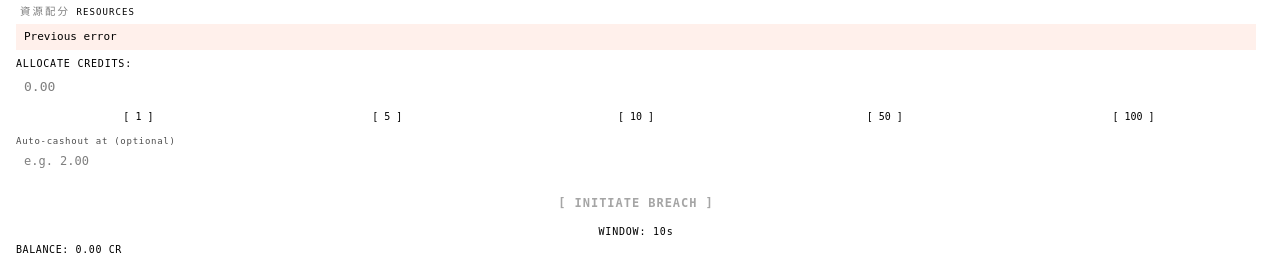
Test: BetForm component › error message handling › error message is cleared on next join attempt
The image size is (1273, 270).
Expected: the text "Previous error" is shown, [16, 24, 1256, 50]
# Enter a valid wager and join
Type "100" into the number field named "Wager" at (636, 87), box [16, 73, 1256, 101]
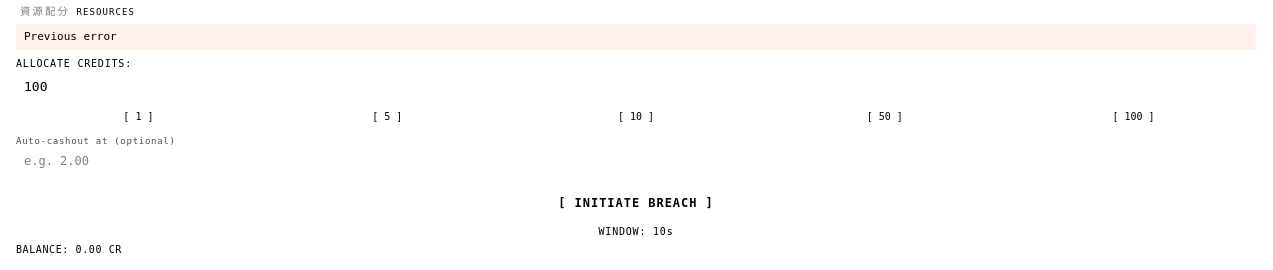
Click the button "[ INITIATE BREACH ]" at (636, 203), box [16, 187, 1256, 220]
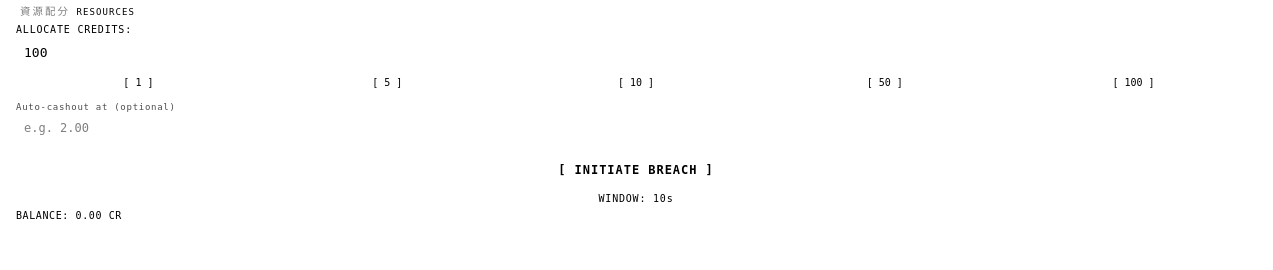
Expected: the text "Previous error" is gone
